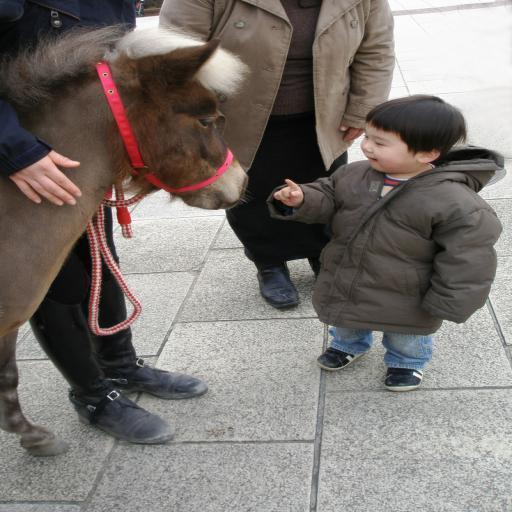horse: (0, 22, 252, 460)
